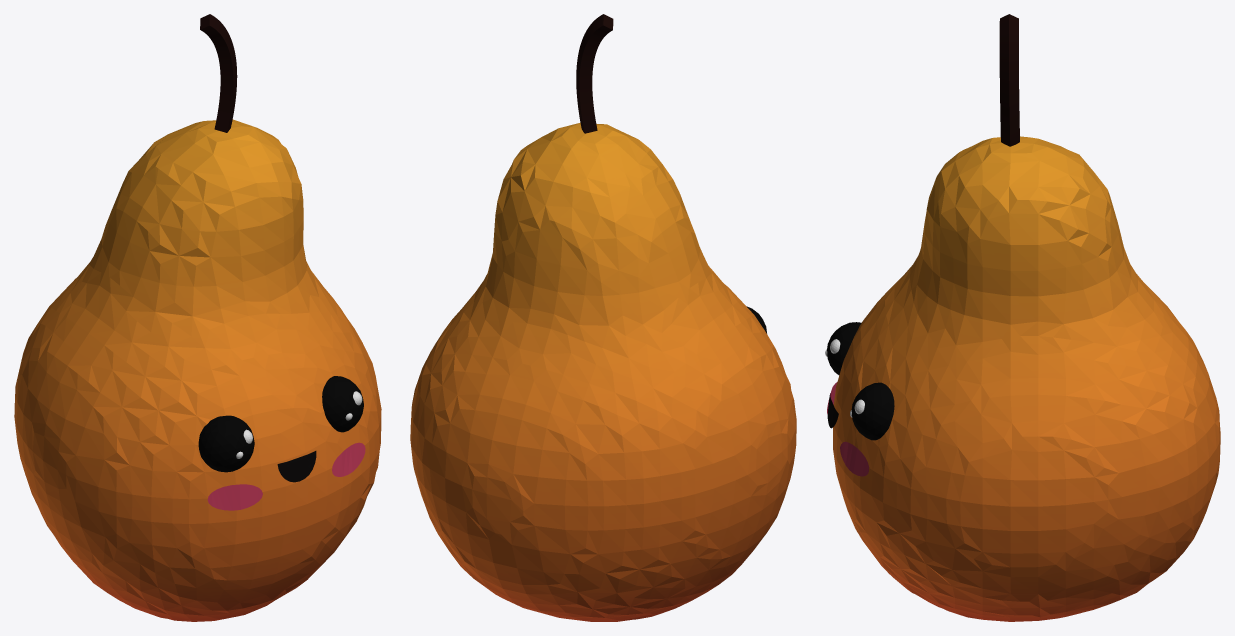
Rendered from pear1.fbx.
The picture shows the model from 3 angles, left to right: view 1: azimuth 30°, elevation 25°; view 2: azimuth 150°, elevation 25°; view 3: azimuth 270°, elevation 25°; orthographic projection.
Parts seen in each view (by area): view 1: file1; view 2: file1; view 3: file1.
Part boxes in pixels (x1,y1,x2,y2): file1: (14, 14, 381, 621); file1: (410, 14, 796, 621); file1: (825, 14, 1220, 621).
Size of the model in its own units: 178 by 309 by 185.
